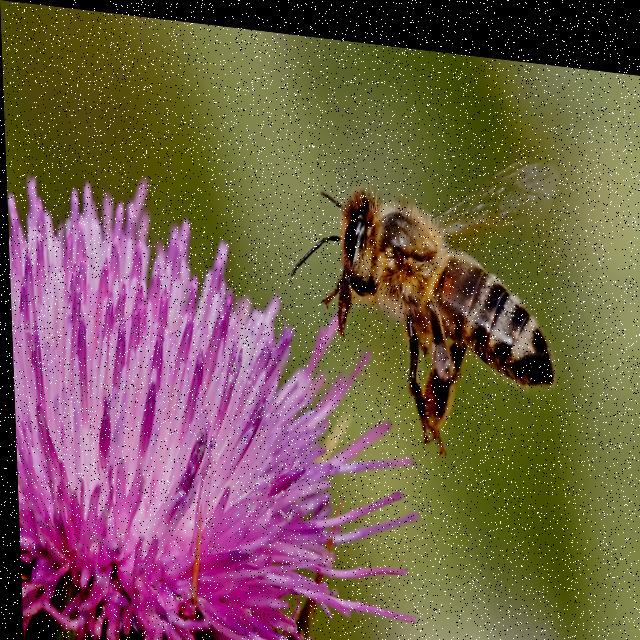Meliponula: (291, 111, 581, 479)
